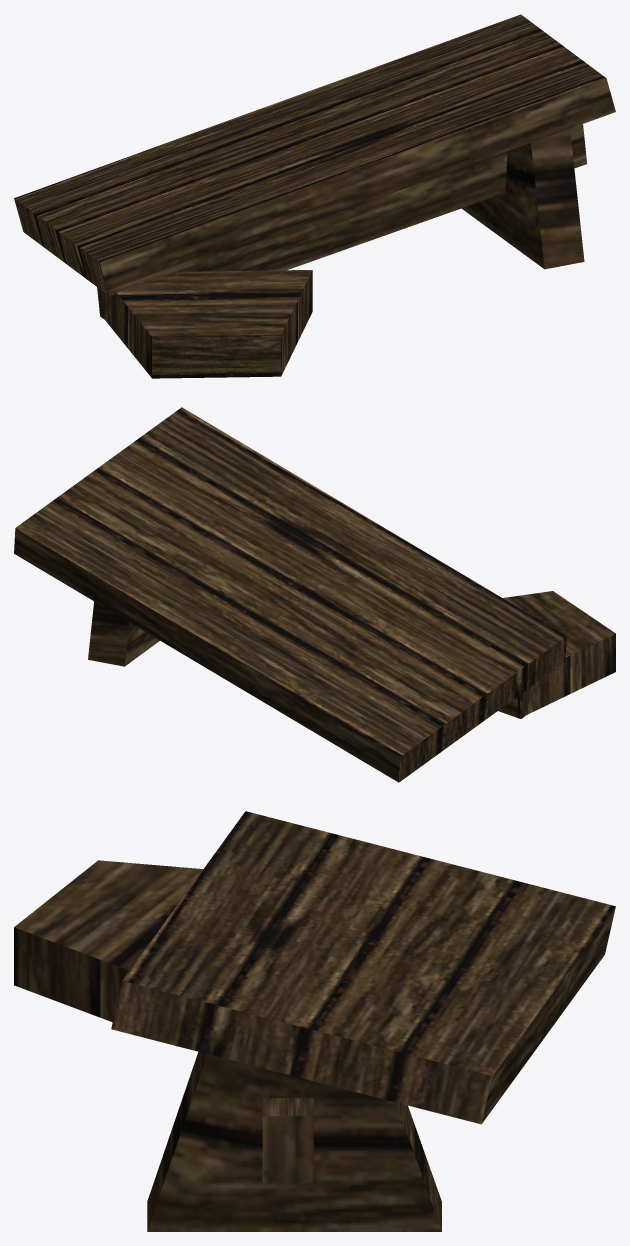
Rendered from mebel1.glb.
The picture shows the model from 3 angles, top to bottom: view 1: azimuth 30°, elevation 25°; view 2: azimuth 150°, elevation 25°; view 3: azimuth 270°, elevation 25°; orthographic projection. The views are drawn at different scales.
Parts seen in each view (by area): view 1: zengin; view 2: zengin; view 3: zengin.
Boxes of the visible parts, box(x1,y1,x2,y2) form: zengin: box(14, 14, 615, 378); zengin: box(14, 407, 615, 782); zengin: box(14, 811, 615, 1231).
Size of the model in its own units: 2.31 by 0.7988 by 1.68.
1 material, 1 textured.
